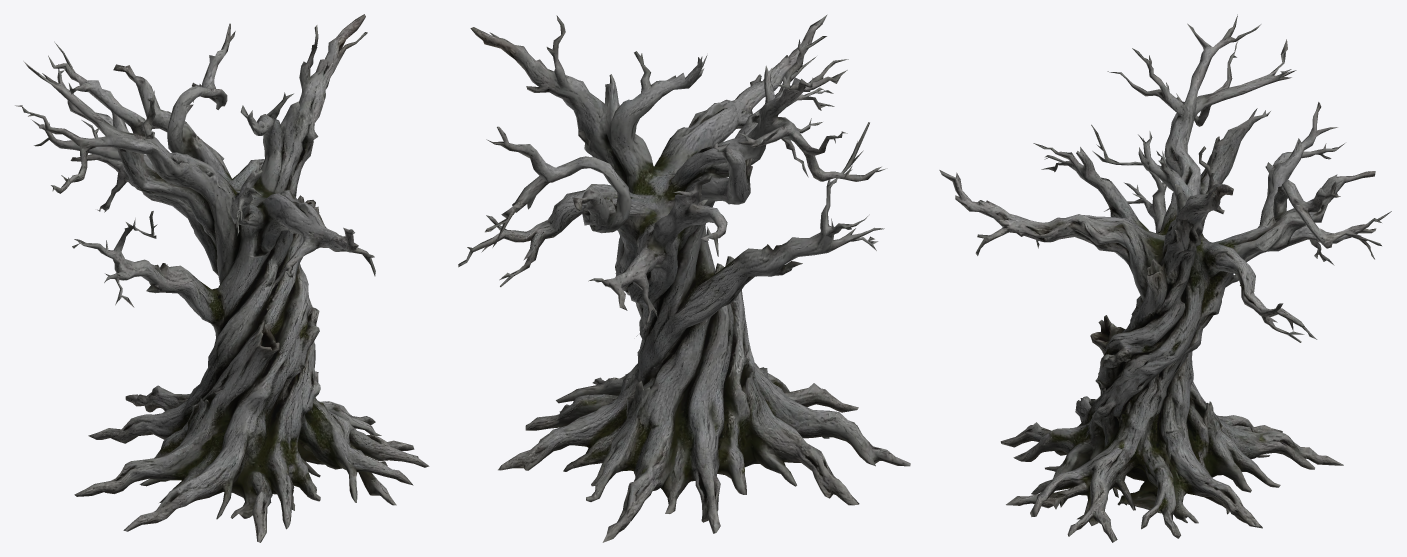
3 views of the same model, side by side, from view 1: azimuth 30°, elevation 25°; view 2: azimuth 150°, elevation 25°; view 3: azimuth 270°, elevation 25° (orthographic). The views are drawn at different scales.
Parts seen in each view (by area): view 1: tripo_node_f55ea30c-c5c2-4345-8037-1d3a4662267b; view 2: tripo_node_f55ea30c-c5c2-4345-8037-1d3a4662267b; view 3: tripo_node_f55ea30c-c5c2-4345-8037-1d3a4662267b.
Boxes of the visible parts, left/top/right/bottom form: tripo_node_f55ea30c-c5c2-4345-8037-1d3a4662267b: left=15, top=14, right=429, bottom=542; tripo_node_f55ea30c-c5c2-4345-8037-1d3a4662267b: left=458, top=14, right=910, bottom=542; tripo_node_f55ea30c-c5c2-4345-8037-1d3a4662267b: left=939, top=14, right=1391, bottom=542.
Bounding box in the file's own units: 0.8281 × 0.9596 × 1.
1 material, 1 textured.
